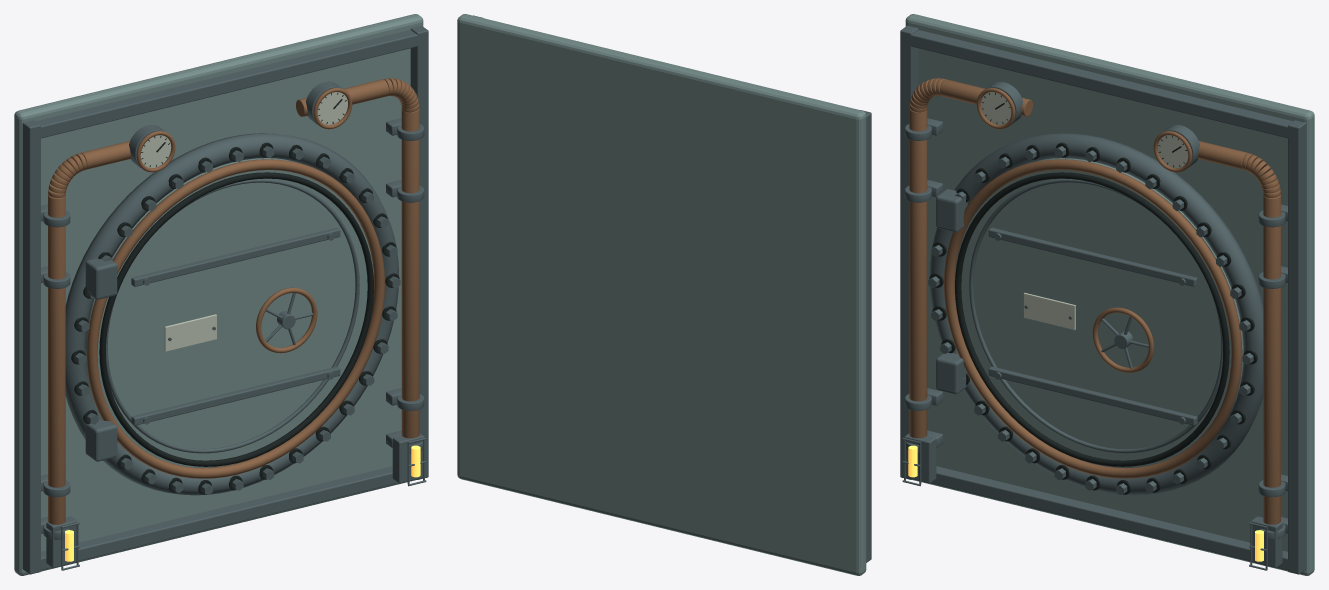
The model's file is rescue-pressure-service.glb.
3 renders of one model, left to right at view 1: azimuth 30°, elevation 25°; view 2: azimuth 150°, elevation 25°; view 3: azimuth 330°, elevation 25°, orthographic.
Parts seen in each view (by area): view 1: rescue_service_paint, rescue_service_steel, rescue_service_copper, rescue_service_rubber, rescue_service_ivory, rescue_service_amber; view 2: rescue_service_paint, rescue_service_steel; view 3: rescue_service_paint, rescue_service_steel, rescue_service_copper, rescue_service_rubber, rescue_service_ivory, rescue_service_amber.
Part boxes in pixels (x1,y1,x2,y2): rescue_service_paint: (14,14,423,575); rescue_service_steel: (22,25,428,574); rescue_service_copper: (48,78,419,524); rescue_service_rubber: (71,92,399,494); rescue_service_ivory: (140,92,347,351); rescue_service_amber: (65,445,420,561); rescue_service_paint: (457,14,866,575); rescue_service_steel: (473,15,871,562); rescue_service_paint: (905,14,1314,575); rescue_service_steel: (900,25,1306,574); rescue_service_copper: (909,78,1280,524); rescue_service_rubber: (929,92,1257,494); rescue_service_ivory: (981,92,1188,330); rescue_service_amber: (908,445,1263,561).
Size of the model in its own units: 5.5 by 6 by 0.79.
